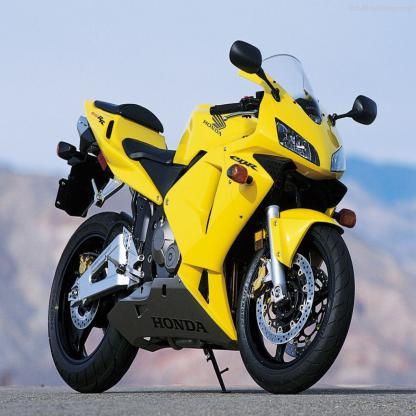Motorcycle: (43, 28, 382, 403)
